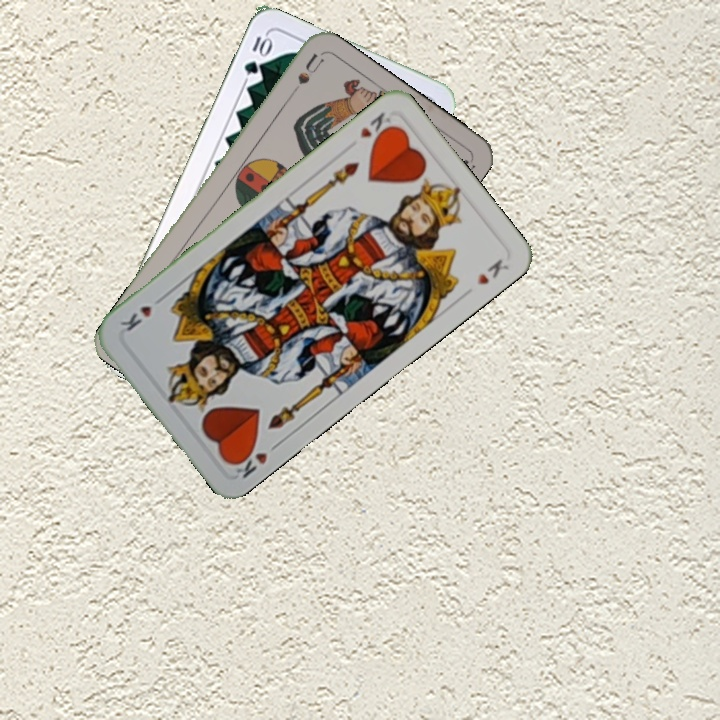G10: (239, 31, 274, 78)
HK: (227, 438, 283, 482), (355, 108, 399, 146)
SU: (293, 50, 327, 88)
